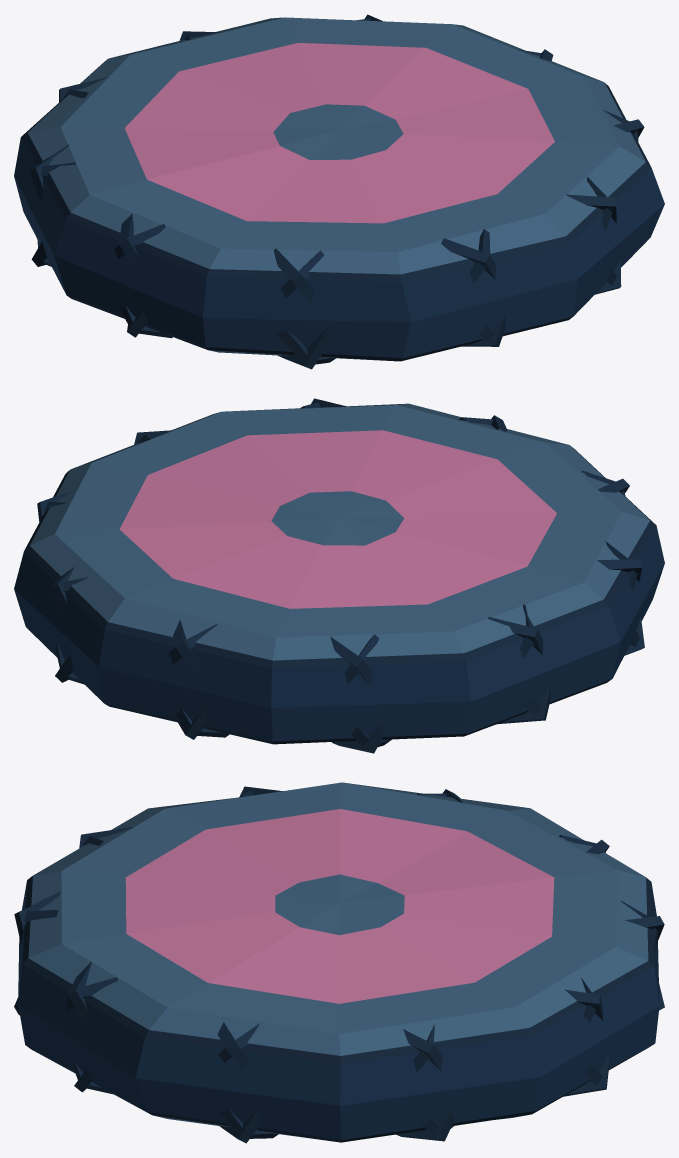
File: SM_Prop_Pillow_13.fbx
3 renders of one model, top to bottom at view 1: azimuth 30°, elevation 25°; view 2: azimuth 150°, elevation 25°; view 3: azimuth 270°, elevation 25°, orthographic. The views are drawn at different scales.
Parts seen in each view (by area): view 1: SM_Prop_Pillow_13; view 2: SM_Prop_Pillow_13; view 3: SM_Prop_Pillow_13.
Part boxes in pixels (x1=…): SM_Prop_Pillow_13: x1=14, y1=14, x2=664, y2=369; SM_Prop_Pillow_13: x1=14, y1=398, x2=664, y2=753; SM_Prop_Pillow_13: x1=14, y1=782, x2=664, y2=1143.
Bounding box in the file's own units: 0.492 × 0.098 × 0.4756.
Materials: 1 (1 with a texture image).
